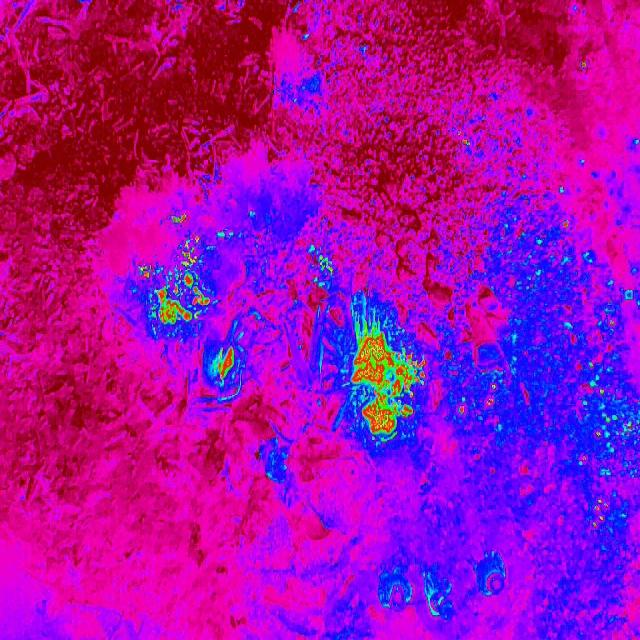fire: (554, 289, 640, 535), (350, 332, 430, 436), (140, 237, 210, 327), (457, 380, 500, 418), (215, 347, 238, 383), (311, 251, 335, 279), (458, 134, 476, 148), (171, 212, 186, 226), (575, 60, 589, 72)
